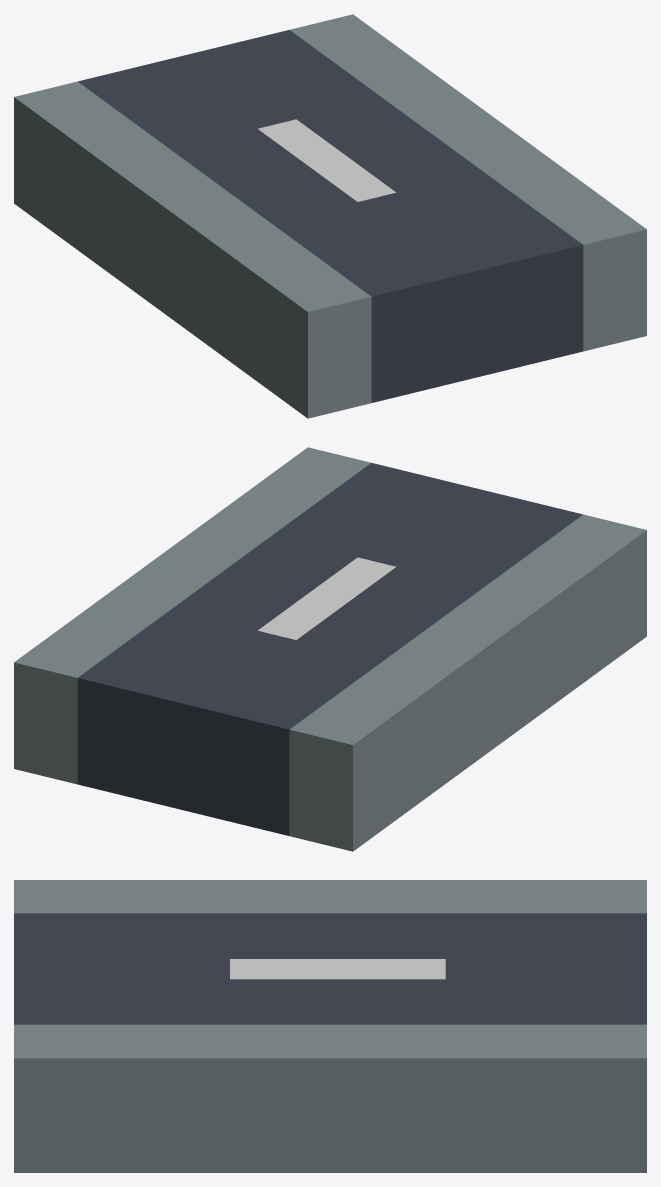
File: road_part_01.fbx
3 renders of one model, top to bottom at view 1: azimuth 30°, elevation 25°; view 2: azimuth 150°, elevation 25°; view 3: azimuth 270°, elevation 25°, orthographic. The views are drawn at different scales.
Visible parts, largest first — view 1: road_part_01; view 2: road_part_01; view 3: road_part_01.
Part boxes in pixels (x1,y1,x2,y2): road_part_01: [14, 14, 646, 418]; road_part_01: [14, 447, 646, 851]; road_part_01: [14, 880, 646, 1172].
Size of the model in its own units: 333 by 100 by 500.
